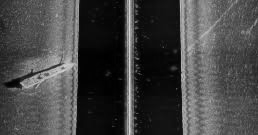ship: (18, 61, 75, 89)
